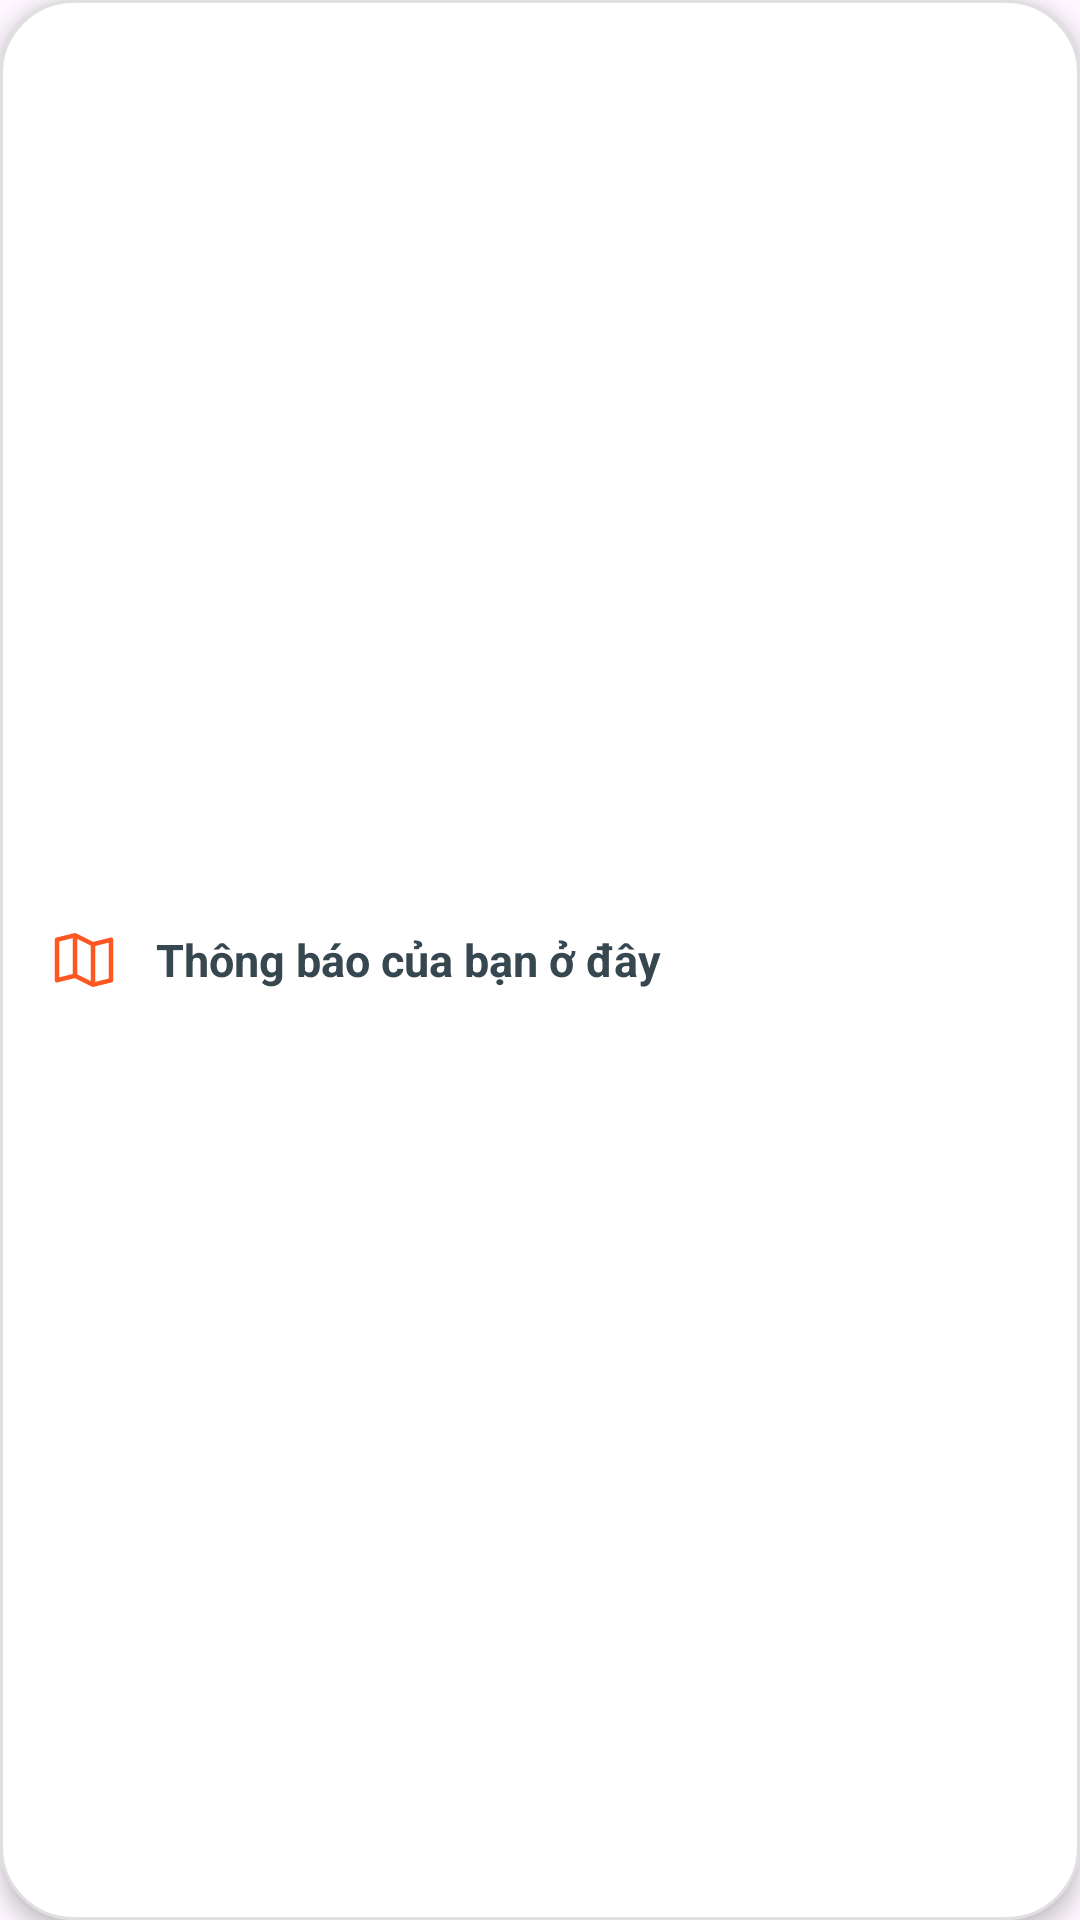

Screen size 1080 x 1920. Icon name, then its box in pixels as (x1, y1, x2, y2):
map trifold: (54, 933, 114, 987)
